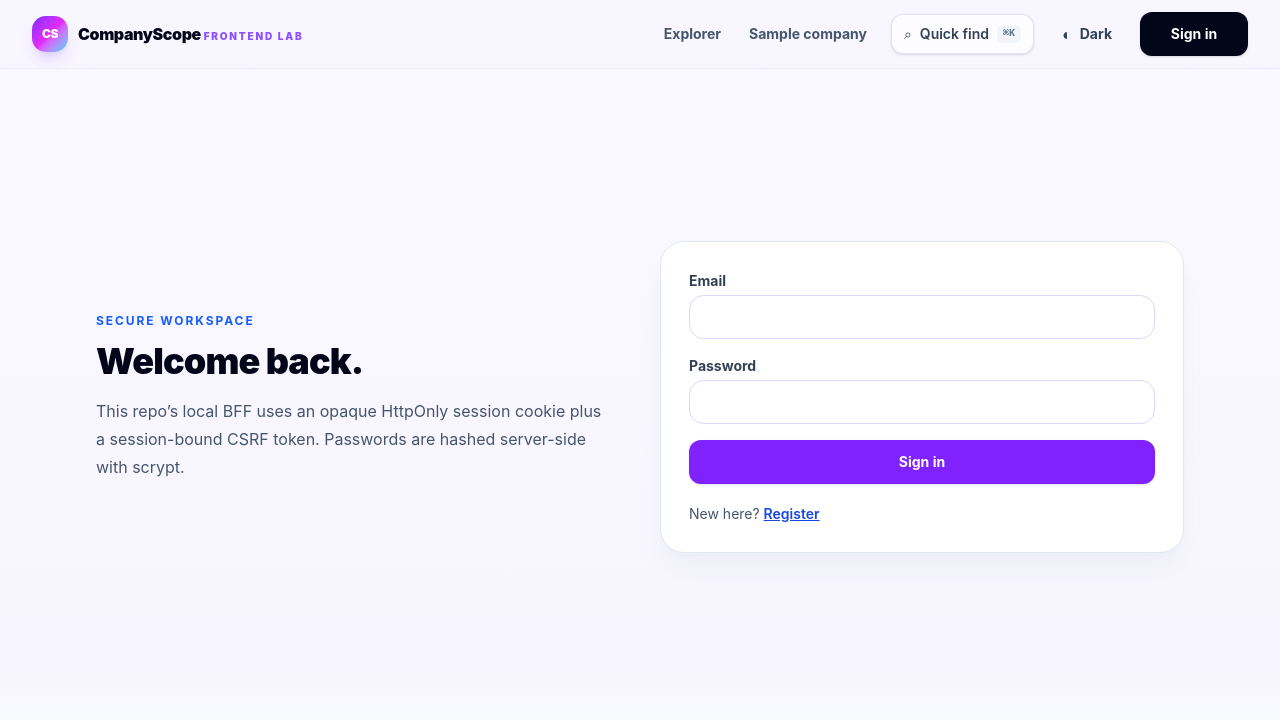
Test case: AuthPage › normalizes non-Error authentication failures
Type "deniz@example.com" into the field labelled "Email" at coordinates (922, 316), box [689,294,1155,338]
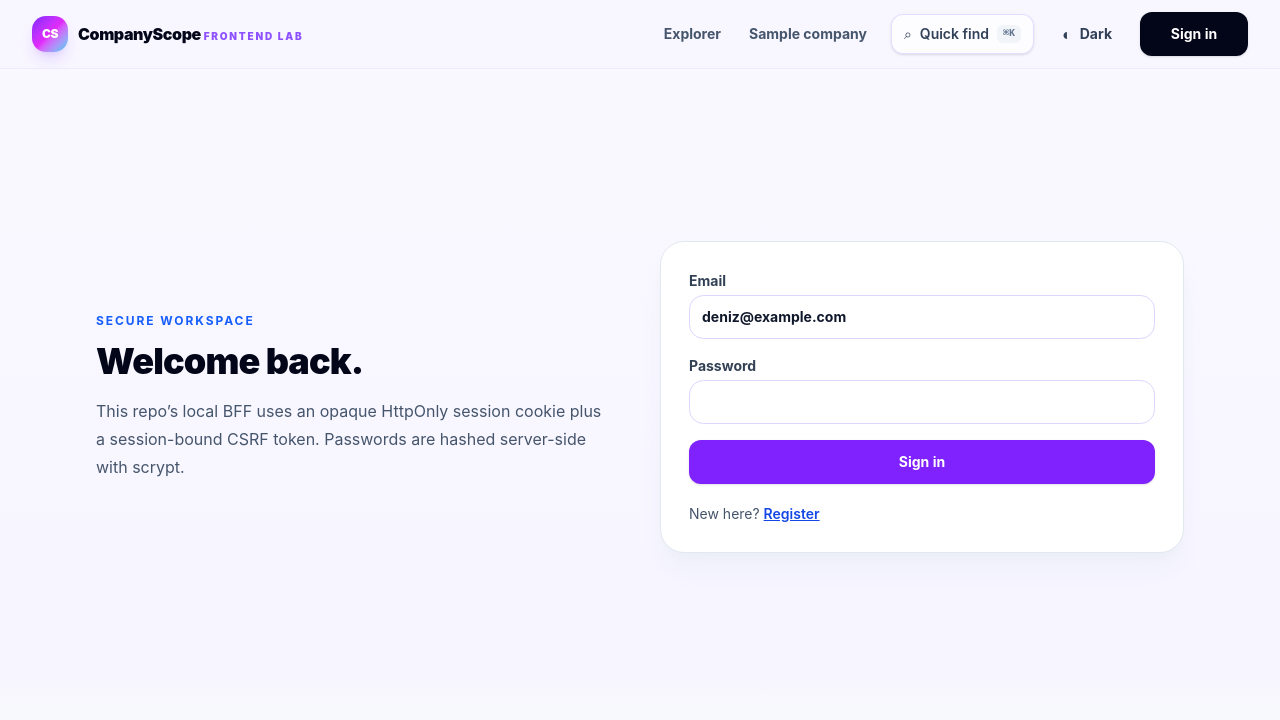
Type "StrongPassword7" into the password field labelled "Password" at coordinates (922, 402), box [689,380,1155,424]
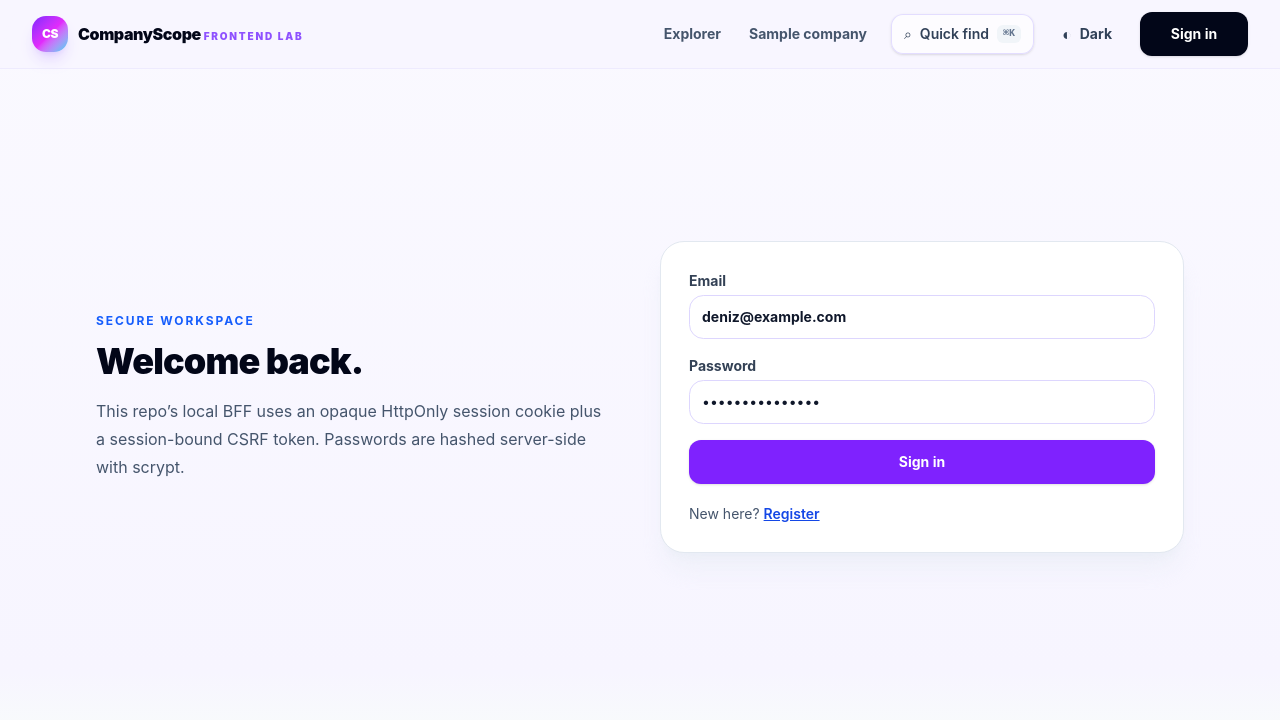
Click the button "Sign in" at coordinates (922, 462), box [689,440,1155,484]
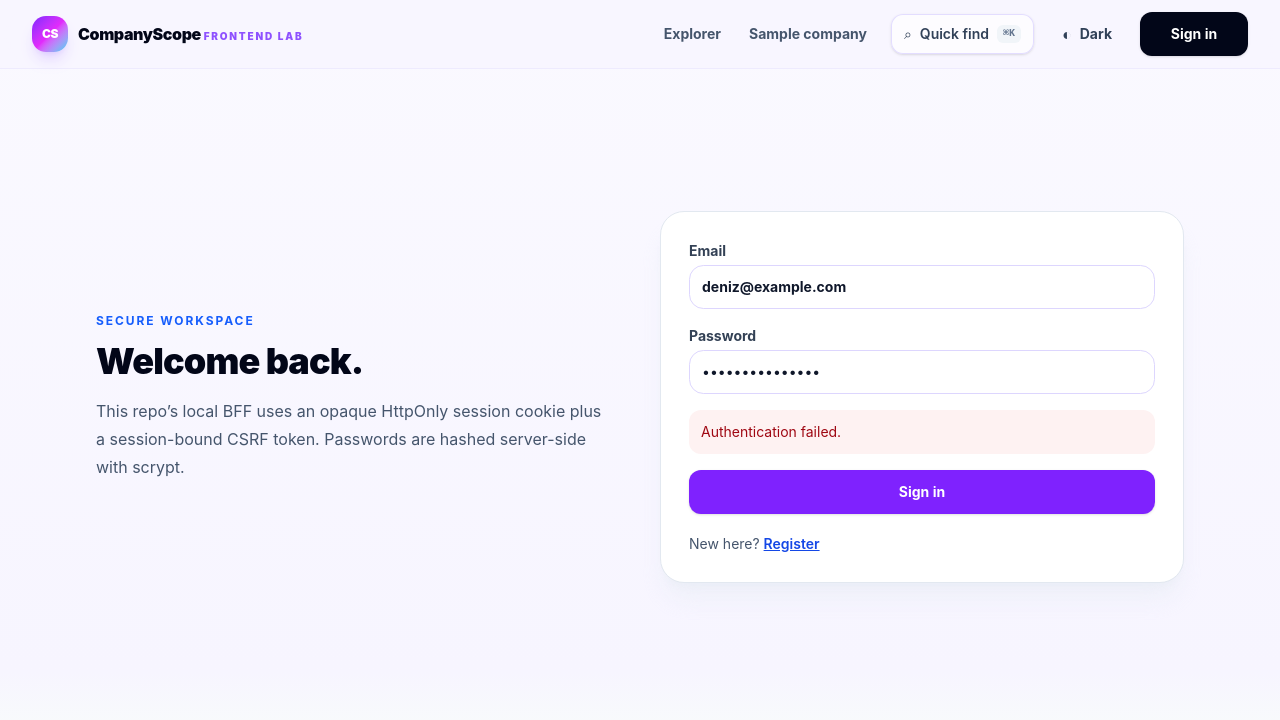
expect the message reads "Authentication failed.": met, box [701,422,841,440]
